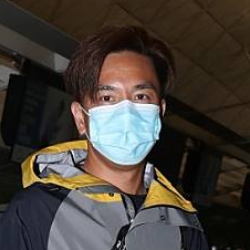mask: (77, 99, 164, 167)
